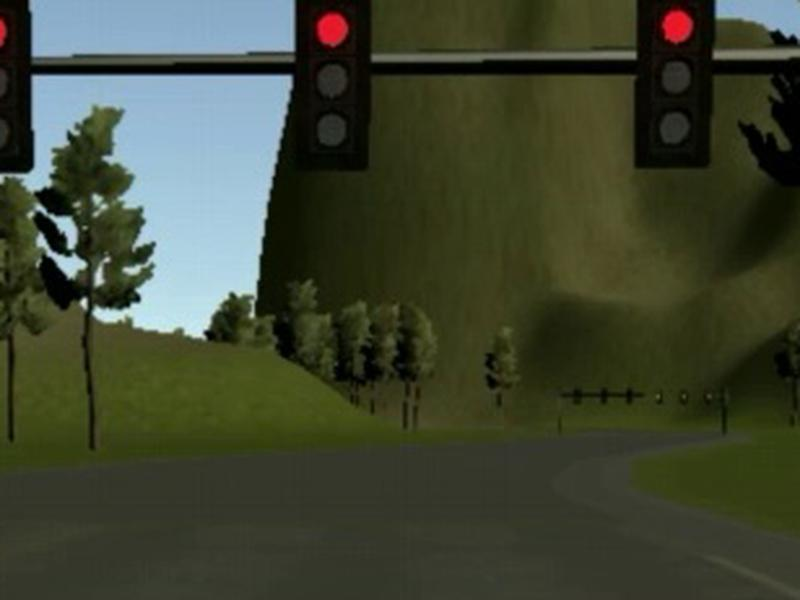Red: (636, 1, 714, 170), (296, 1, 370, 171), (1, 1, 35, 173)
